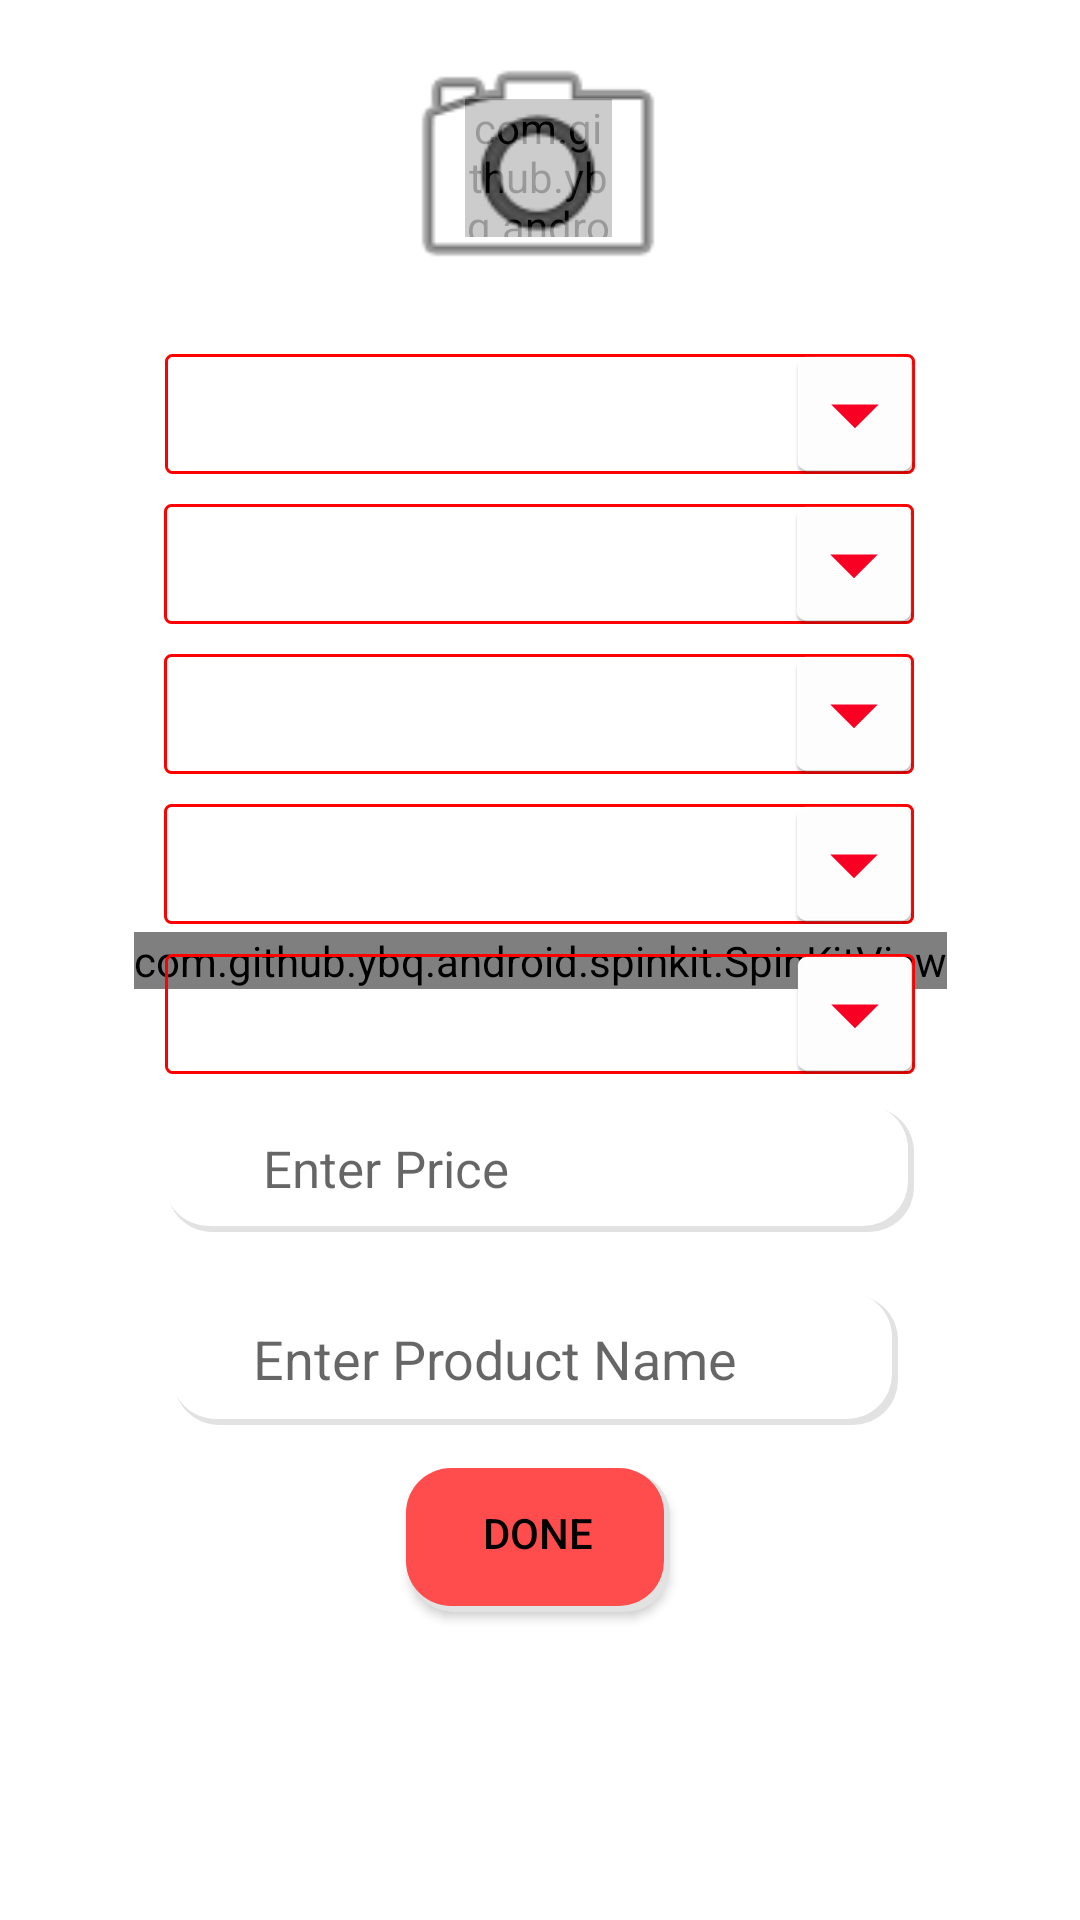

Icons on this 1080x1920 Android screen, each with its box as (left=x1, top=y1, right=x2, bottom=y2):
camera: (left=422, top=71, right=654, bottom=256)
